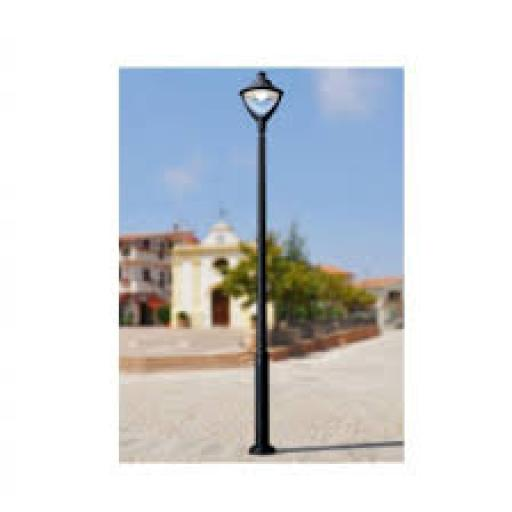Light-pole: (225, 69, 300, 465)
